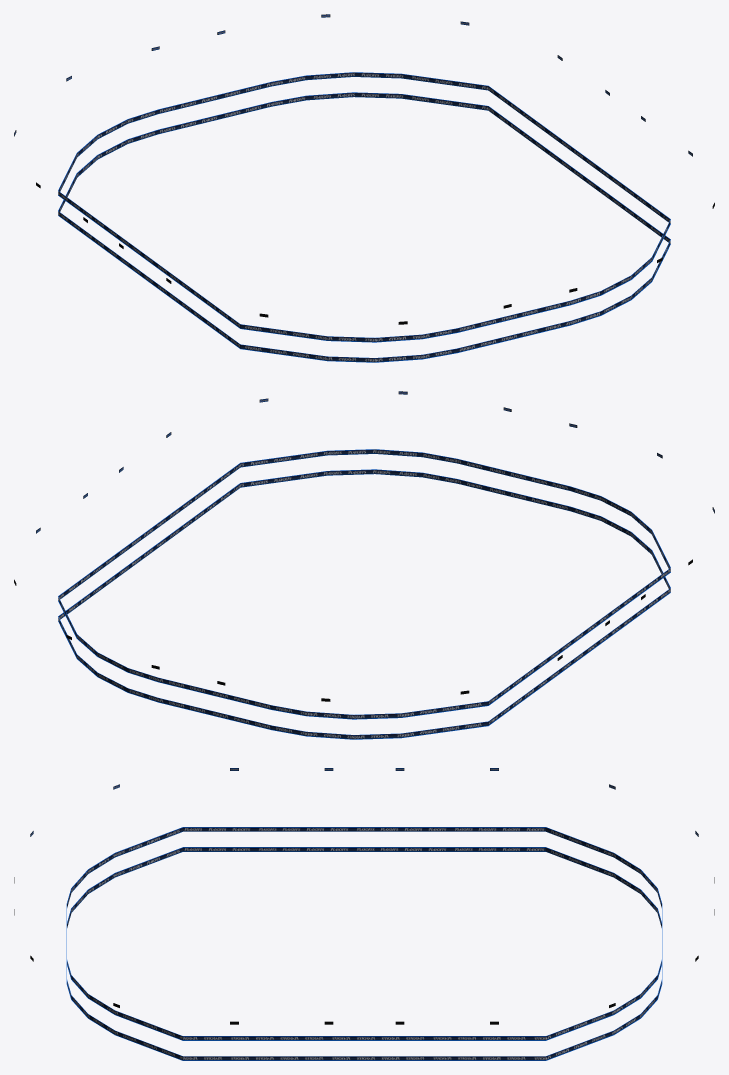
File: LEDBanners.fbx
The picture shows the model from 3 angles, top to bottom: view 1: azimuth 30°, elevation 25°; view 2: azimuth 150°, elevation 25°; view 3: azimuth 270°, elevation 25°; orthographic projection.
Parts seen in each view (by area): view 1: LEDBanners; view 2: LEDBanners; view 3: LEDBanners.
Part boxes in pixels (x1,y1,x2,y2): LEDBanners: [14, 14, 714, 362]; LEDBanners: [14, 391, 714, 739]; LEDBanners: [14, 768, 714, 1060].
Size of the model in its own units: 10155 by 1147 by 11857.
Materials: 2 (1 with a texture image).
